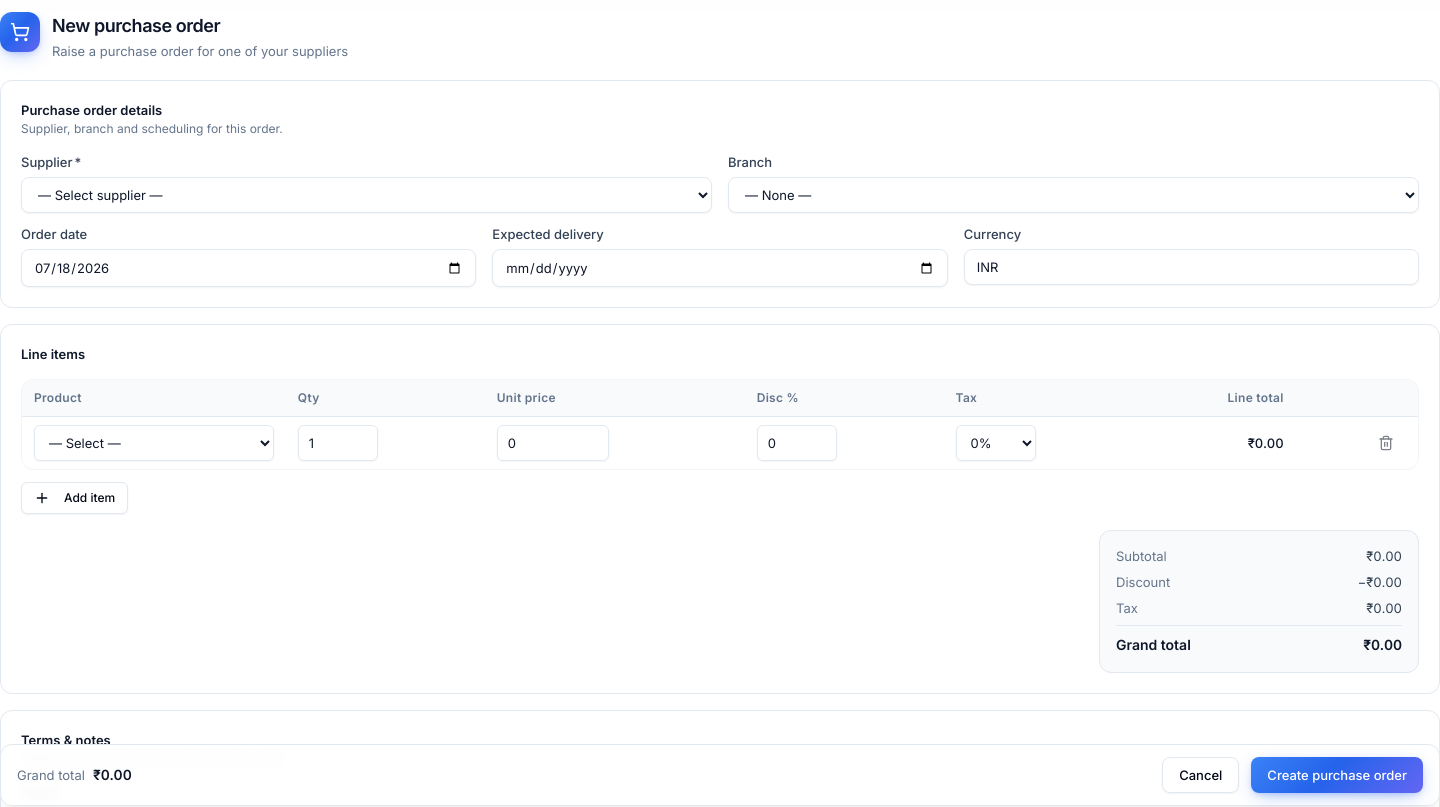
Scenario: PurchaseOrderForm › falls back to a zero tax rate for products outside the allowed slabs
Select "Oddment" in the dropdown named "Product for line 1": (154, 442) top-left (34, 424), bottom-right (274, 460)
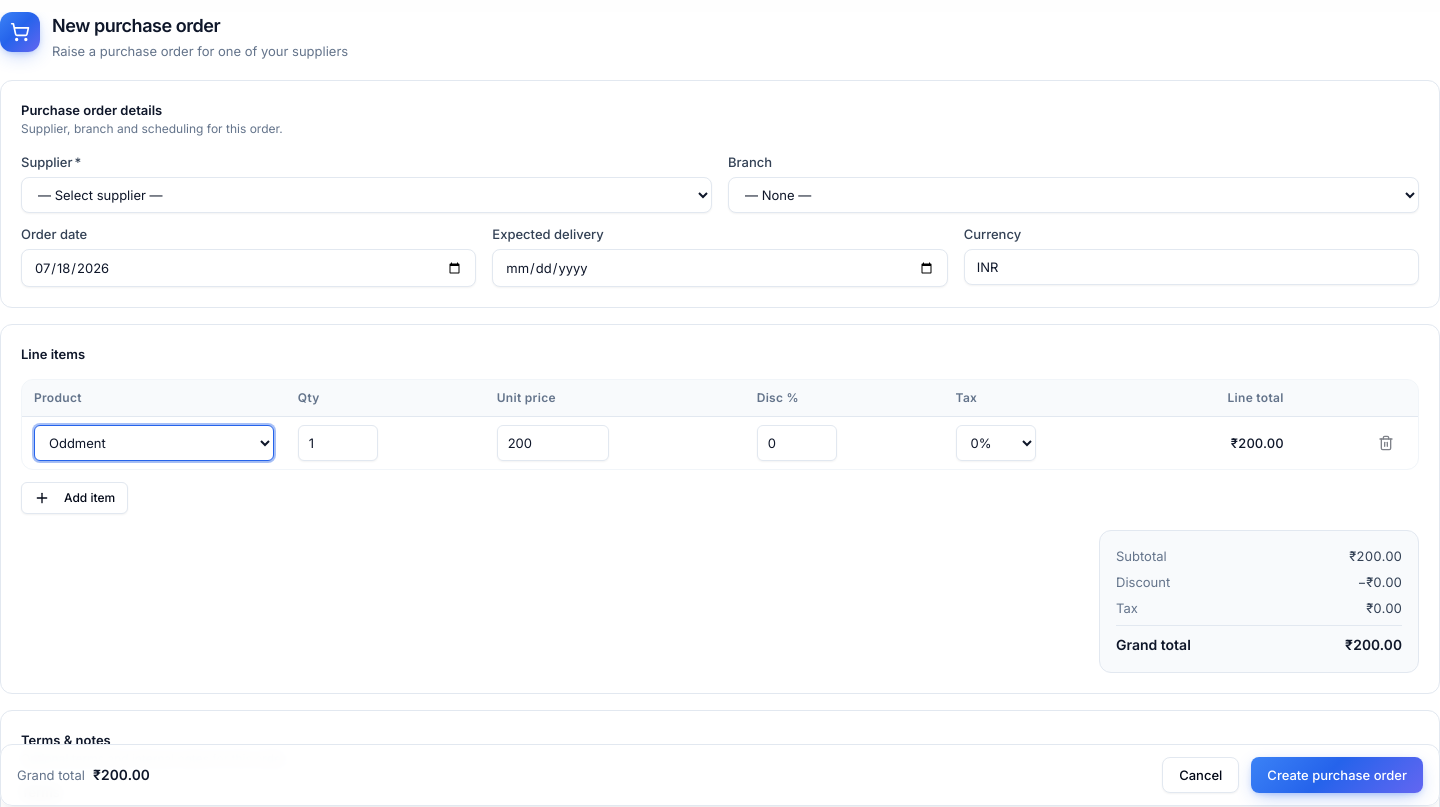
Expected: the dropdown named "tax rate for line 1" shows "0%", top-left (956, 424), bottom-right (1036, 460)
Expected: the text "₹200.00" is shown, top-left (1142, 416), bottom-right (1296, 468)
